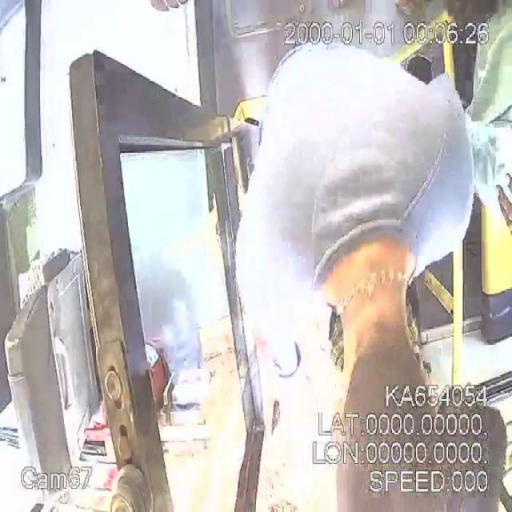persona: (233, 40, 508, 510)
